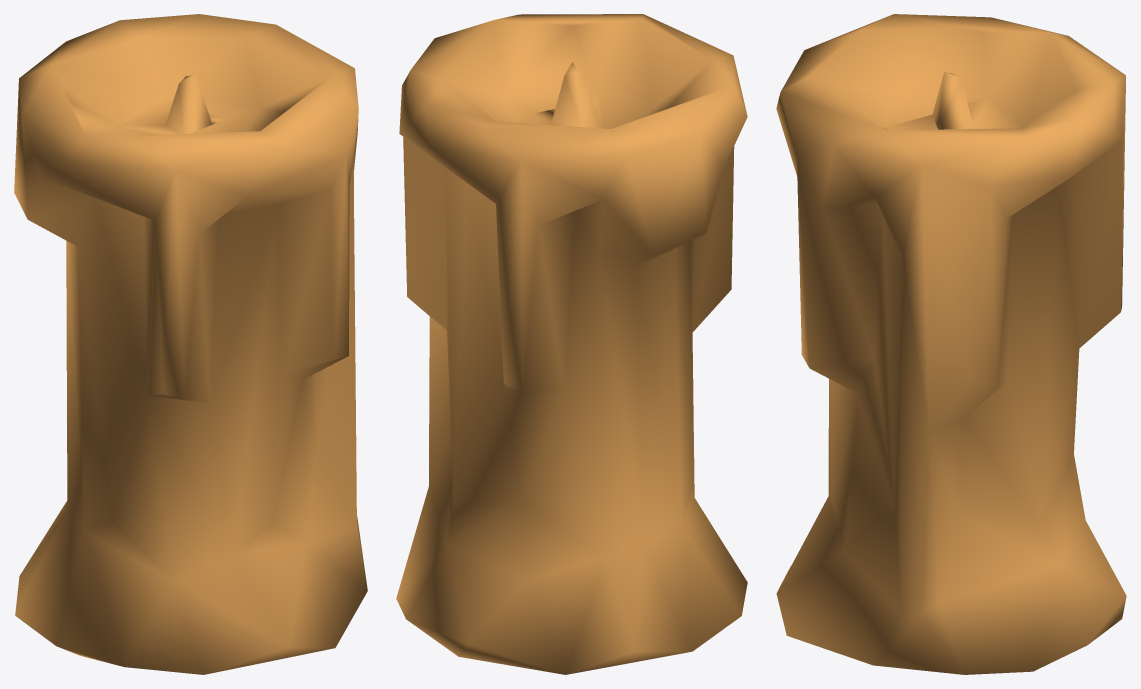
3 renders of one model, left to right at view 1: azimuth 30°, elevation 25°; view 2: azimuth 150°, elevation 25°; view 3: azimuth 270°, elevation 25°, orthographic.
Visible parts, largest first — view 1: Cylinder.005; view 2: Cylinder.005; view 3: Cylinder.005.
Part boxes in pixels (x1,y1,x2,y2): Cylinder.005: (14,14,367,674); Cylinder.005: (396,14,747,674); Cylinder.005: (776,14,1126,674).
Bounding box in the file's own units: 84.87 × 144 × 83.9.
